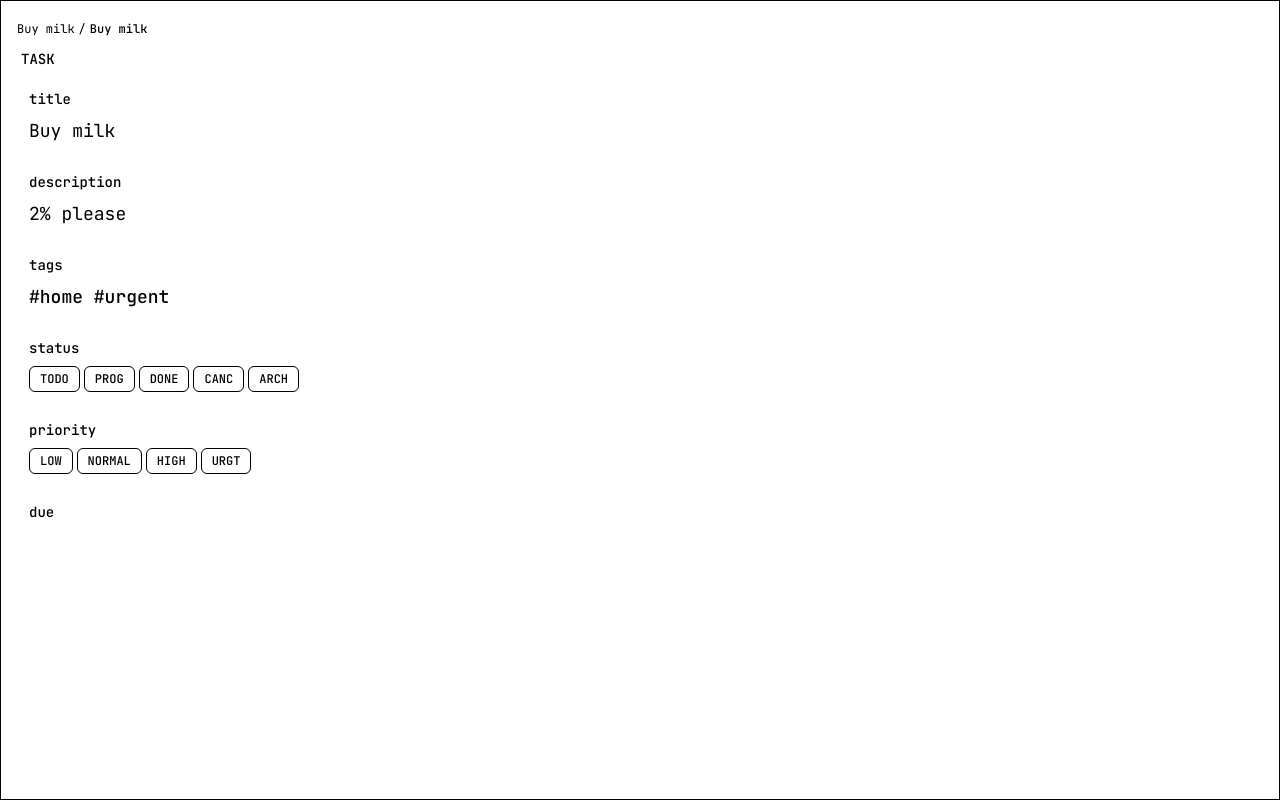
Test case: ItemDetail › reverts to the saved title on Escape, instead of saving
Replace the text in the text box showing "Buy milk" below "title" with "something else" at (640, 130), box [29,117,1251,144]
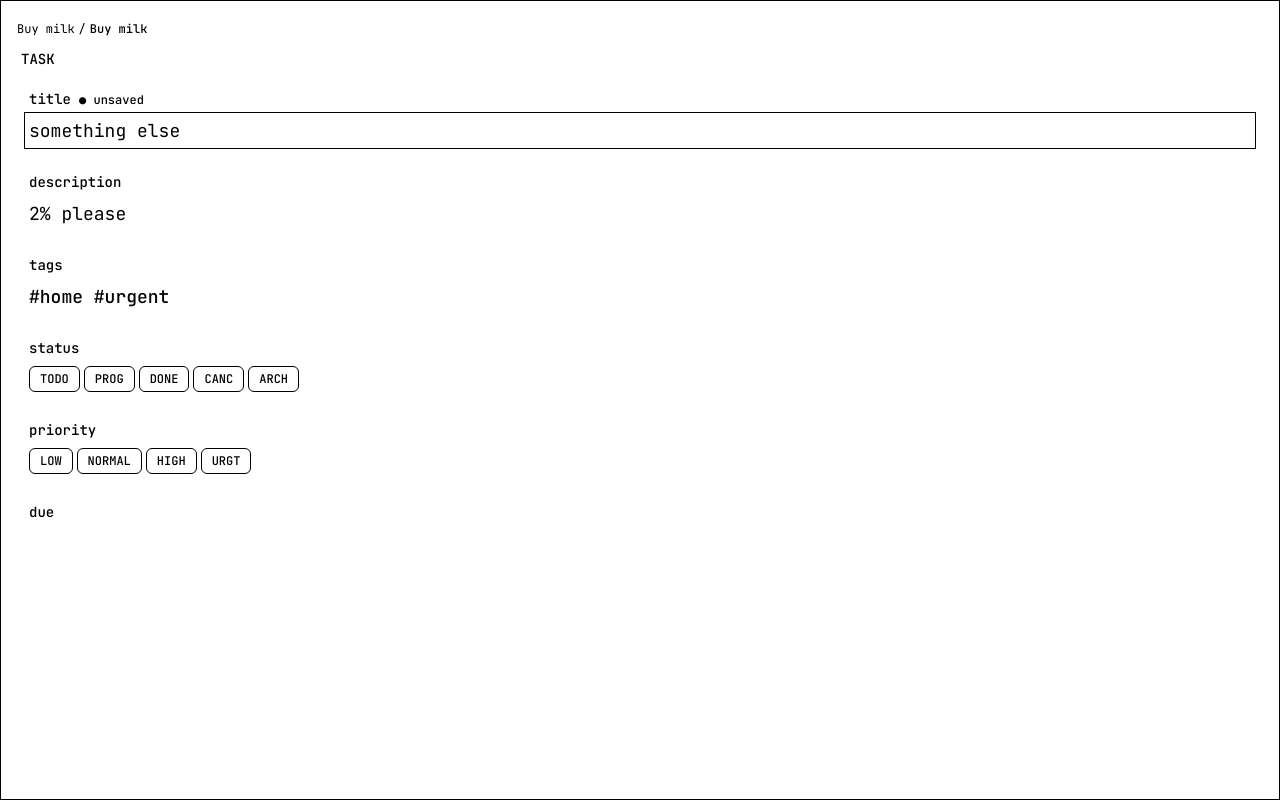
Press Escape in the text box showing "Buy milk" next to "something else", box [29,117,1251,144]
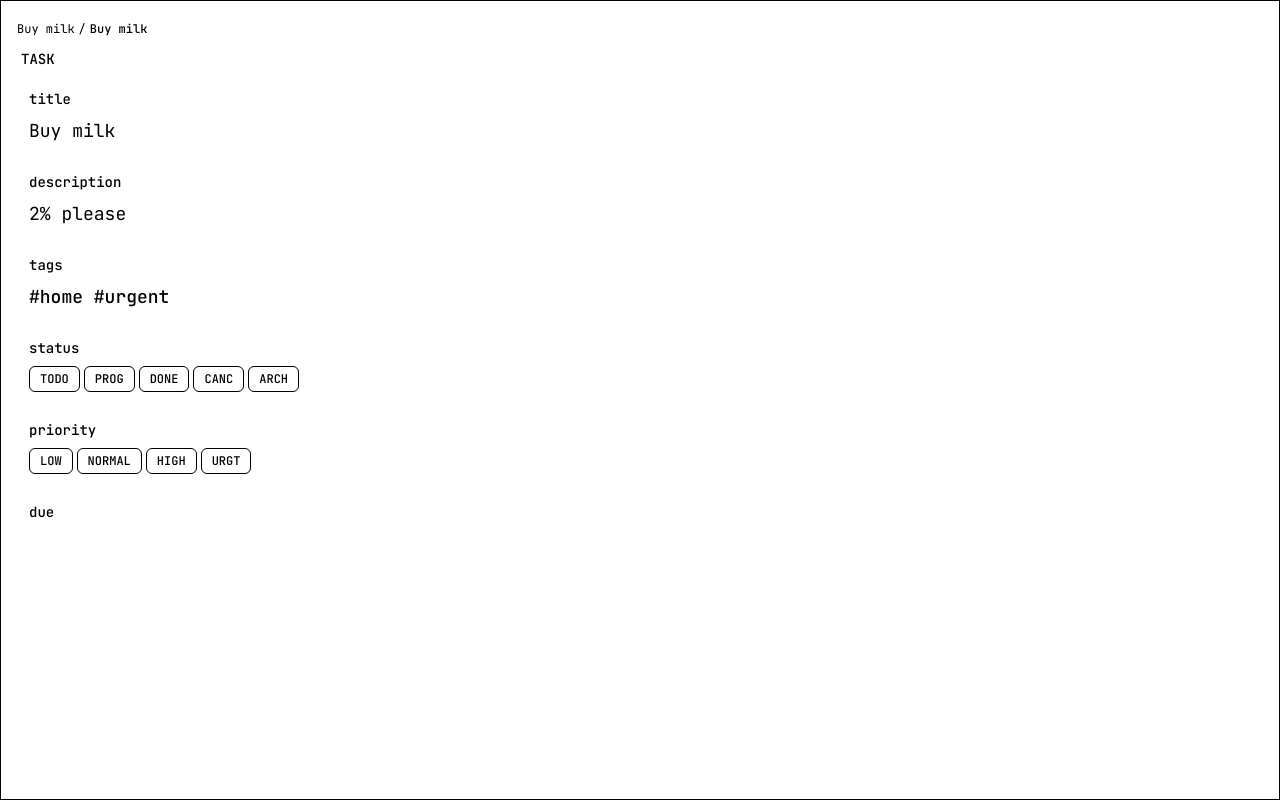
Expected: the text box showing "Buy milk" below "title" is shown, [29,117,1251,144]
